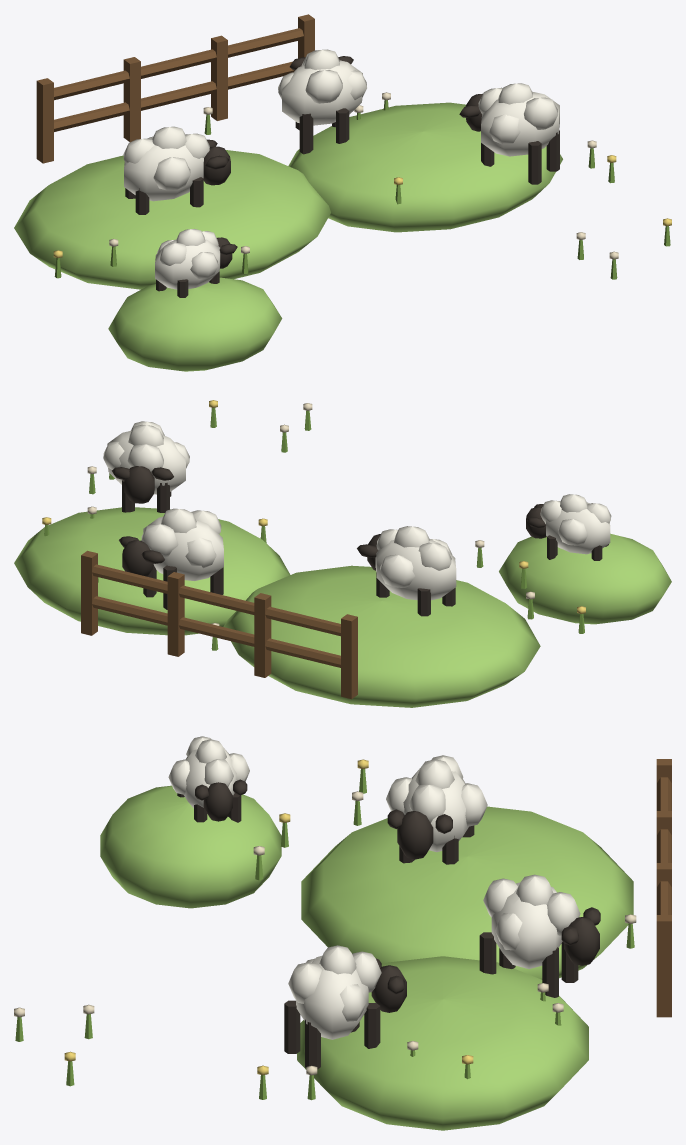
The model's file is terrain-pasture-1.glb.
3 views of the same model, one above another, from view 1: azimuth 30°, elevation 25°; view 2: azimuth 150°, elevation 25°; view 3: azimuth 270°, elevation 25° (orthographic). The views are drawn at different scales.
Visible parts, largest first — view 1: terrain-pasture-1, terrain-pasture-1.002, terrain-pasture-1.003, terrain-pasture-1.001, terrain-pasture-1.004, terrain-pasture-1.006; view 2: terrain-pasture-1, terrain-pasture-1.002, terrain-pasture-1.003, terrain-pasture-1.001, terrain-pasture-1.004; view 3: terrain-pasture-1, terrain-pasture-1.002, terrain-pasture-1.001, terrain-pasture-1.003, terrain-pasture-1.004, terrain-pasture-1.006.
Boxes of the visible parts, left/top/right/bottom form: terrain-pasture-1: left=14, top=102, right=562, bottom=371; terrain-pasture-1.002: left=123, top=49, right=559, bottom=289; terrain-pasture-1.003: left=36, top=14, right=314, bottom=163; terrain-pasture-1.001: left=125, top=56, right=559, bottom=297; terrain-pasture-1.004: left=54, top=100, right=670, bottom=279; terrain-pasture-1.006: left=109, top=92, right=618, bottom=259; terrain-pasture-1: left=14, top=507, right=671, bottom=707; terrain-pasture-1.002: left=103, top=421, right=611, bottom=600; terrain-pasture-1.003: left=81, top=550, right=357, bottom=699; terrain-pasture-1.001: left=112, top=466, right=608, bottom=616; terrain-pasture-1.004: left=44, top=407, right=584, bottom=650; terrain-pasture-1: left=100, top=785, right=633, bottom=1130; terrain-pasture-1.002: left=168, top=736, right=580, bottom=1039; terrain-pasture-1.001: left=177, top=779, right=600, bottom=1069; terrain-pasture-1.003: left=656, top=759, right=671, bottom=1017; terrain-pasture-1.004: left=15, top=769, right=634, bottom=1100; terrain-pasture-1.006: left=14, top=791, right=636, bottom=1075.
Bounding box in the file's own units: 1.23 × 0.3108 × 1.07.
